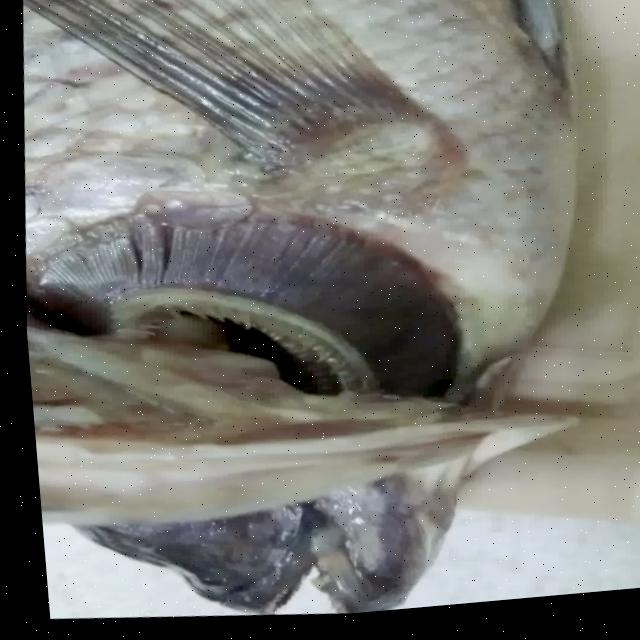Non-Fresh: (13, 172, 482, 436)
